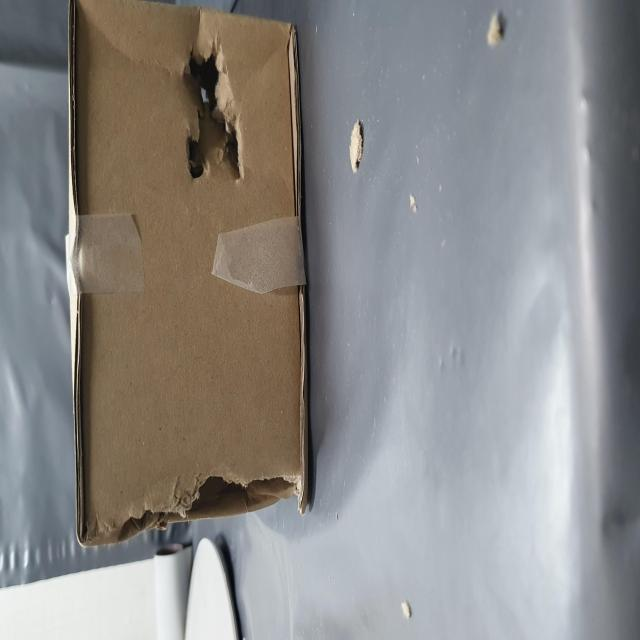damaged: (56, 203, 102, 540), (254, 316, 340, 439)
